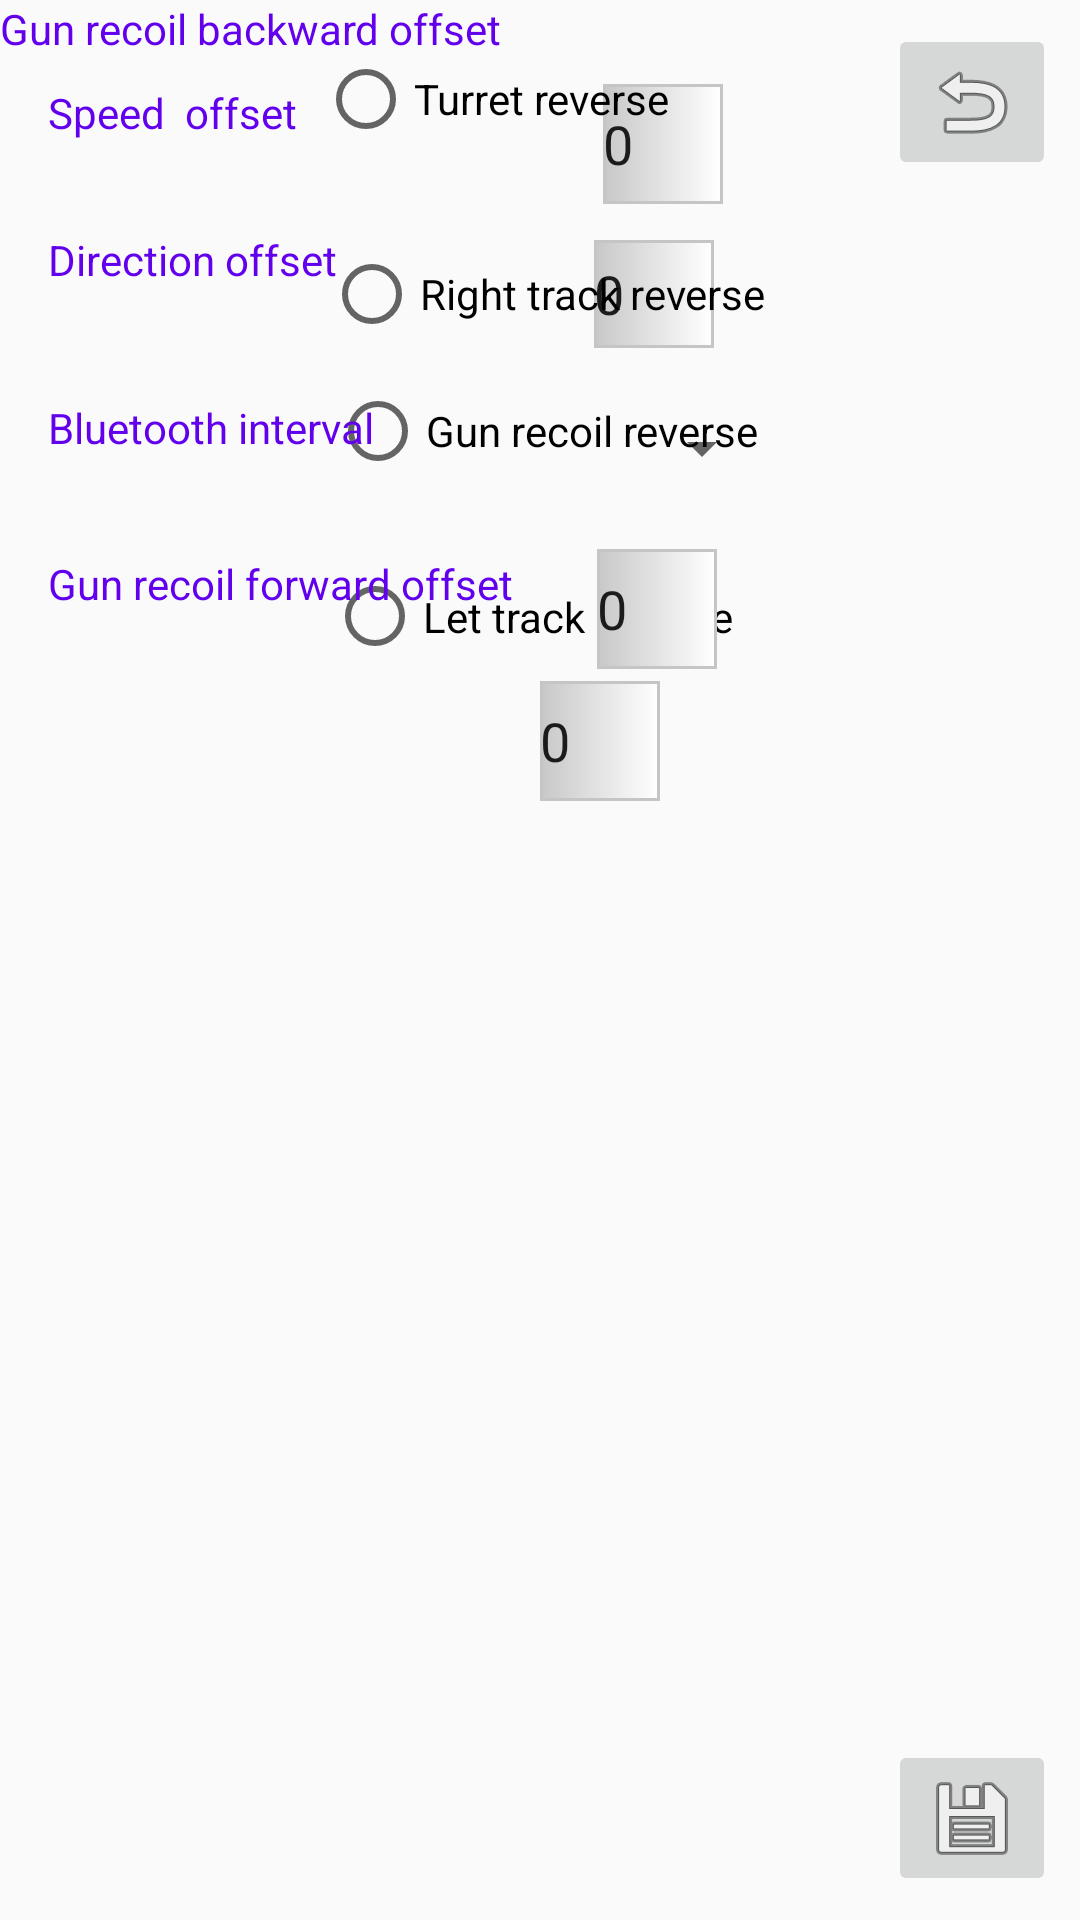

Icons on this 1080px×1920px Android screen, each with its box as box(x1, y1, x2, y2):
revert: box(900, 42, 1044, 162)
save: box(900, 1758, 1044, 1878)
